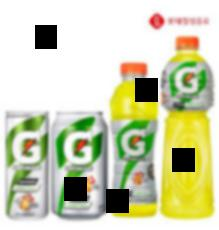gatorade_lemon: (109, 60, 159, 217)
